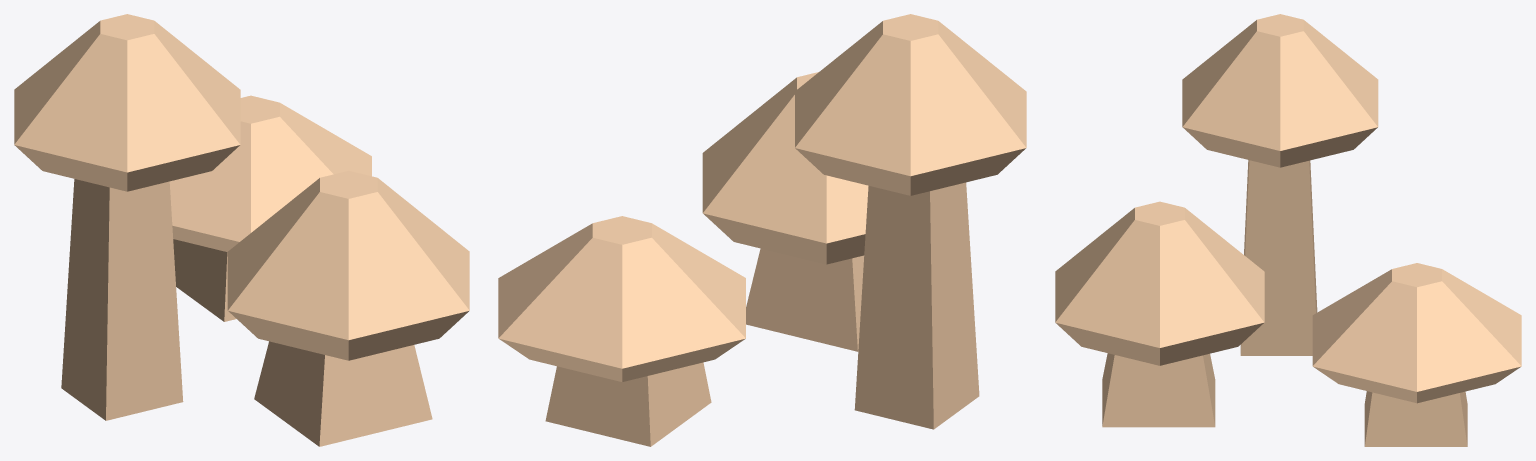
The model's file is mushroom_brownGroup.fbx.
The picture shows the model from 3 angles, left to right: view 1: azimuth 30°, elevation 25°; view 2: azimuth 150°, elevation 25°; view 3: azimuth 270°, elevation 25°; orthographic projection. The views are drawn at different scales.
Visible parts, largest first — view 1: mushroom_brownGroup; view 2: mushroom_brownGroup; view 3: mushroom_brownGroup.
Part boxes in pixels (box(x1,y1,x2,y2)): mushroom_brownGroup: box(14, 14, 469, 446); mushroom_brownGroup: box(498, 14, 1026, 446); mushroom_brownGroup: box(1055, 14, 1521, 446).
Size of the model in its own units: 82.58 by 66.15 by 88.32.
